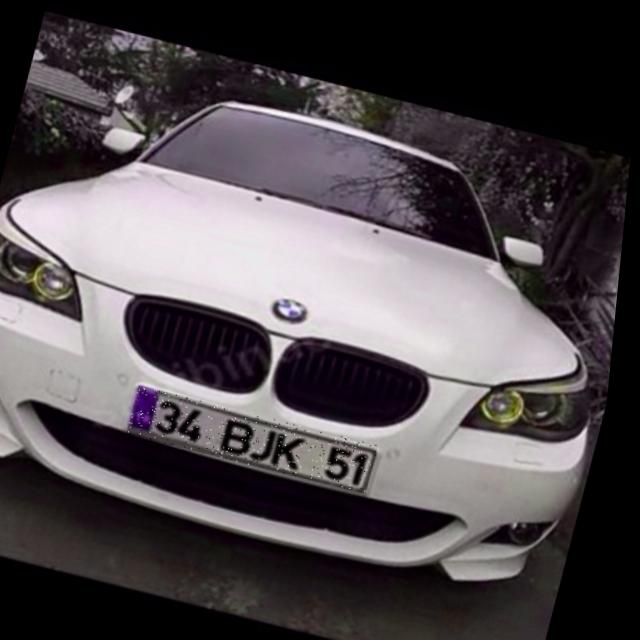license_plate: (132, 382, 389, 487)
